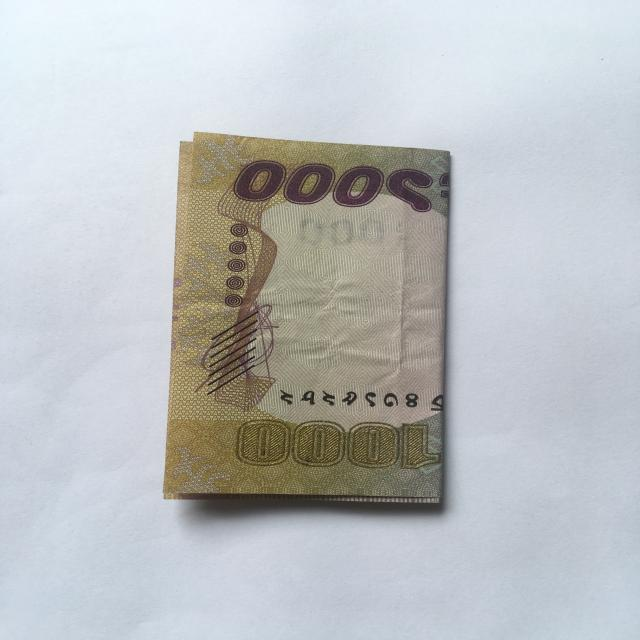Taka: (172, 125, 460, 524)
